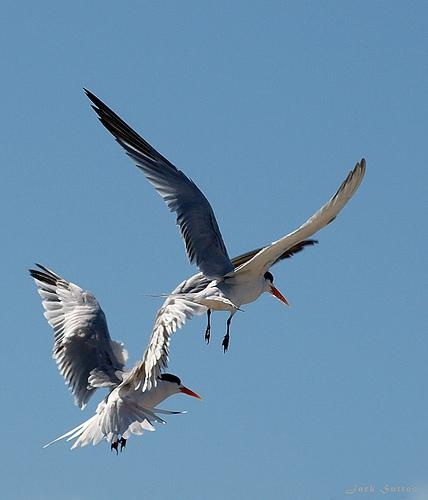bird: (80, 83, 366, 351), (17, 271, 232, 454)
